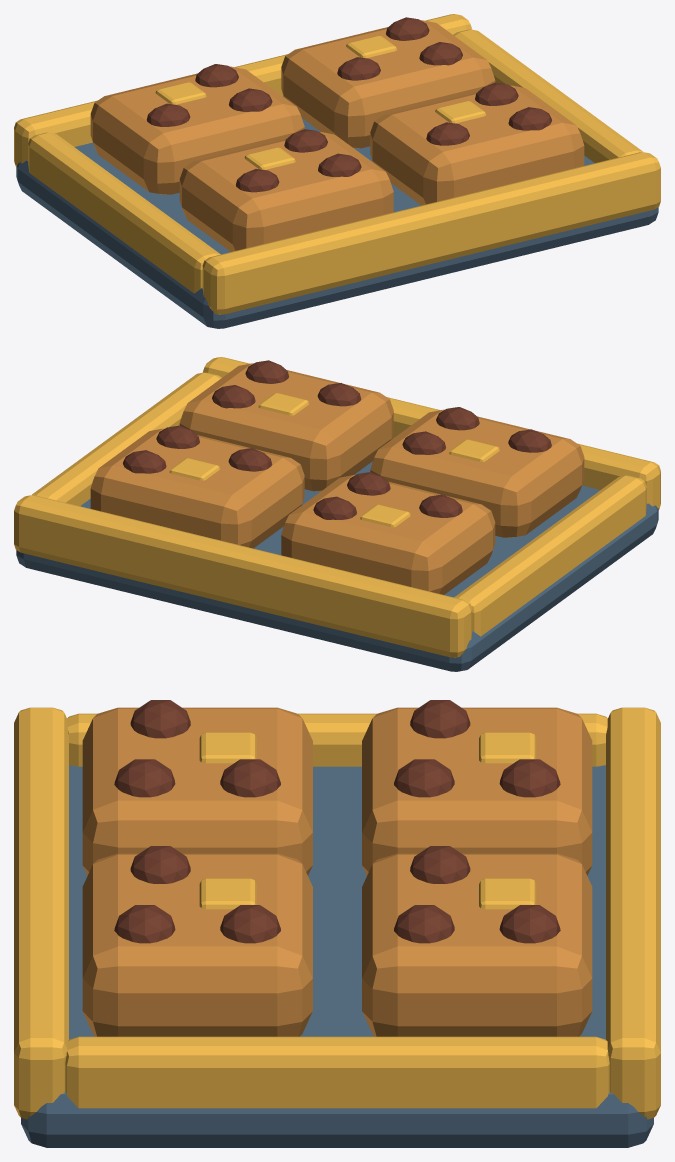
The model's file is cookie_tray.glb.
3 renders of one model, top to bottom at view 1: azimuth 30°, elevation 25°; view 2: azimuth 150°, elevation 25°; view 3: azimuth 270°, elevation 25°, orthographic. The views are drawn at different scales.
Visible parts, largest first — view 1: Cookie, Circuit center, Tray base, Chocolate drop; view 2: Cookie, Circuit center, Tray base, Chocolate drop; view 3: Cookie, Circuit center, Tray base, Chocolate drop.
Part boxes in pixels (x1,y1,x2,y2): Cookie: (90,20,584,251); Circuit center: (14,14,660,314); Tray base: (16,96,658,328); Chocolate drop: (146,17,551,192); Cookie: (90,363,584,594); Circuit center: (14,357,660,657); Tray base: (16,439,658,671); Chocolate drop: (123,360,551,519); Cookie: (82,707,592,1036); Circuit center: (14,707,660,1119); Tray base: (21,765,653,1147); Chocolate drop: (114,700,560,943).
Size of the model in its own units: 1 by 0.237 by 0.7871.
